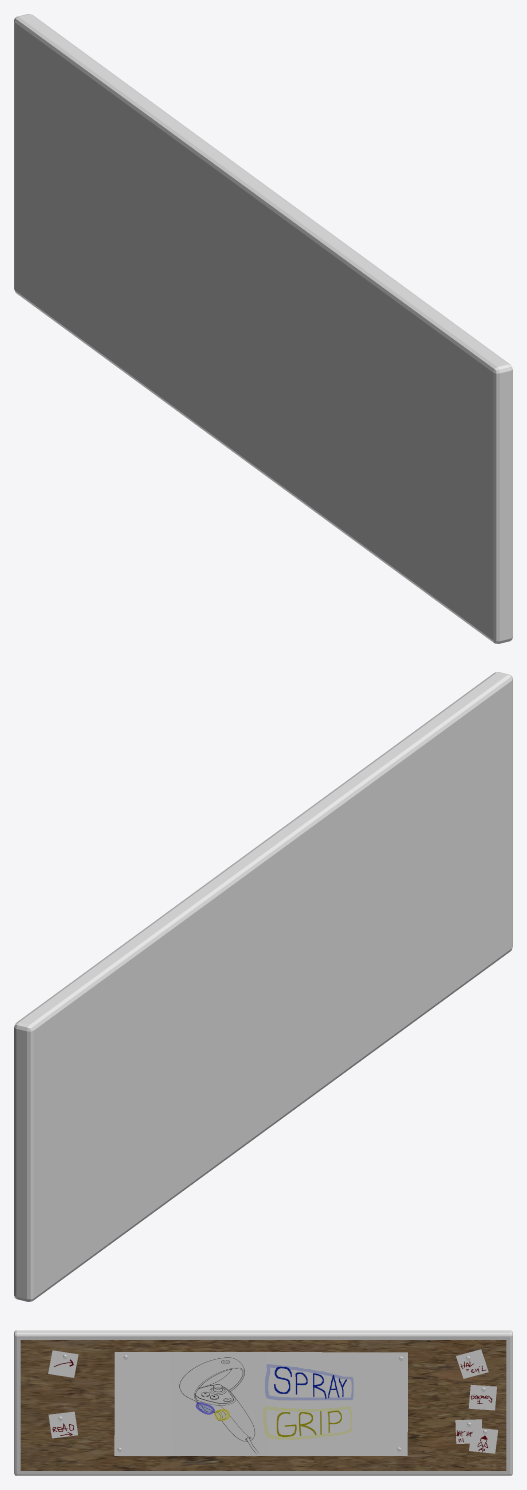
Rendered from MDL_NoticeBoard.fbx.
3 renders of one model, top to bottom at view 1: azimuth 30°, elevation 25°; view 2: azimuth 150°, elevation 25°; view 3: azimuth 270°, elevation 25°, orthographic. The views are drawn at different scales.
Parts seen in each view (by area): view 1: board; view 2: board; view 3: board, post it notes.
Boxes of the visible parts, x1,y1,x2,y2 form: board: (14, 14, 512, 643); board: (14, 672, 512, 1301); board: (14, 1330, 512, 1475); post it notes: (48, 1349, 498, 1455).
Bounding box in the file's own units: 8.4 × 86.5 × 274.
